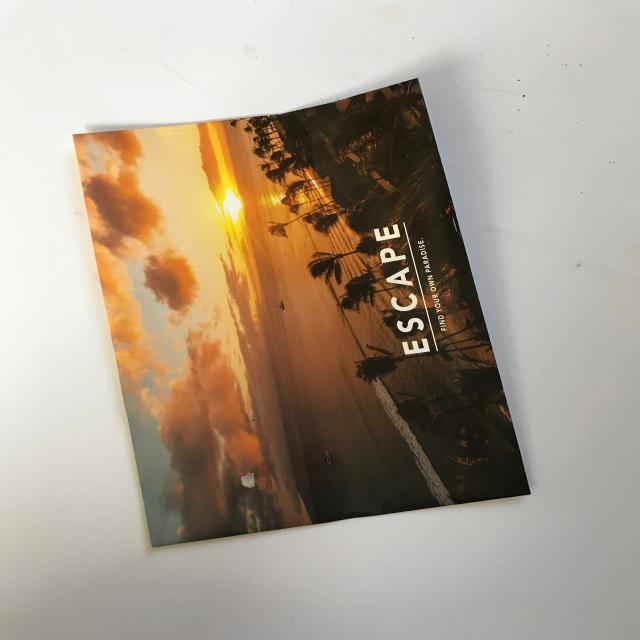paper: (54, 68, 549, 558)
